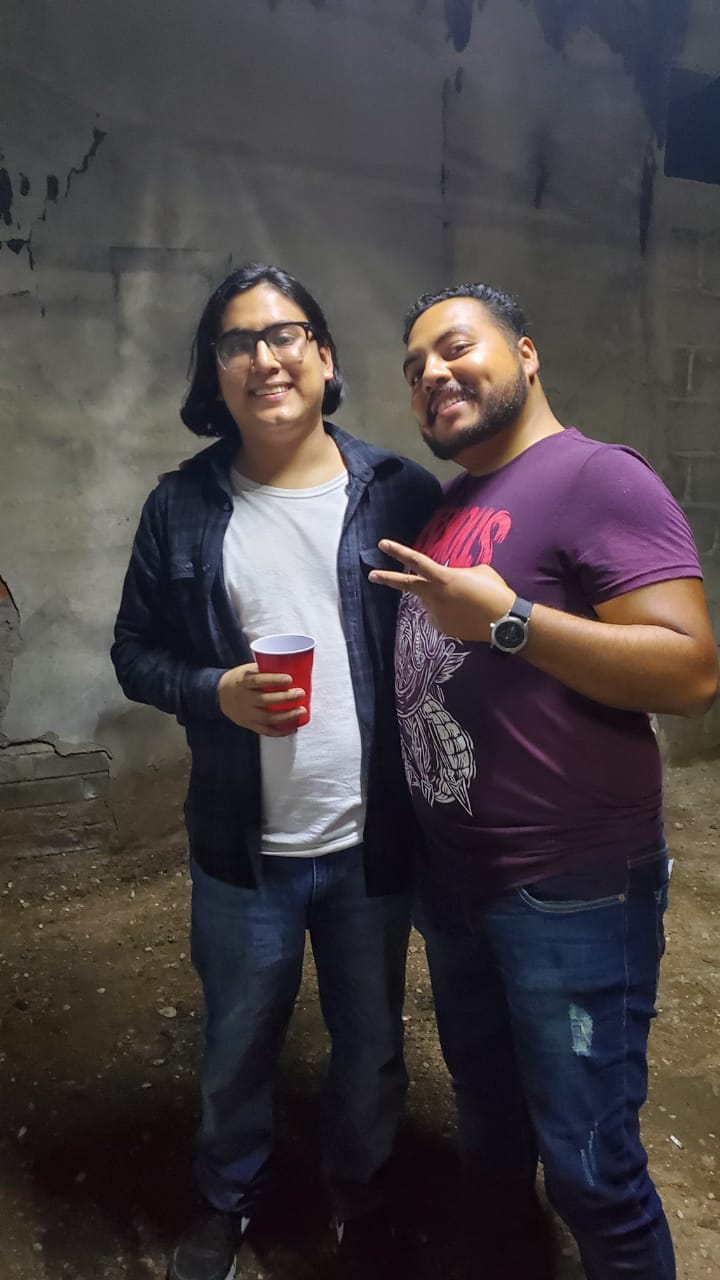Yoshi: (349, 252, 598, 495)
